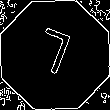L_S: (32, 26, 78, 84)
